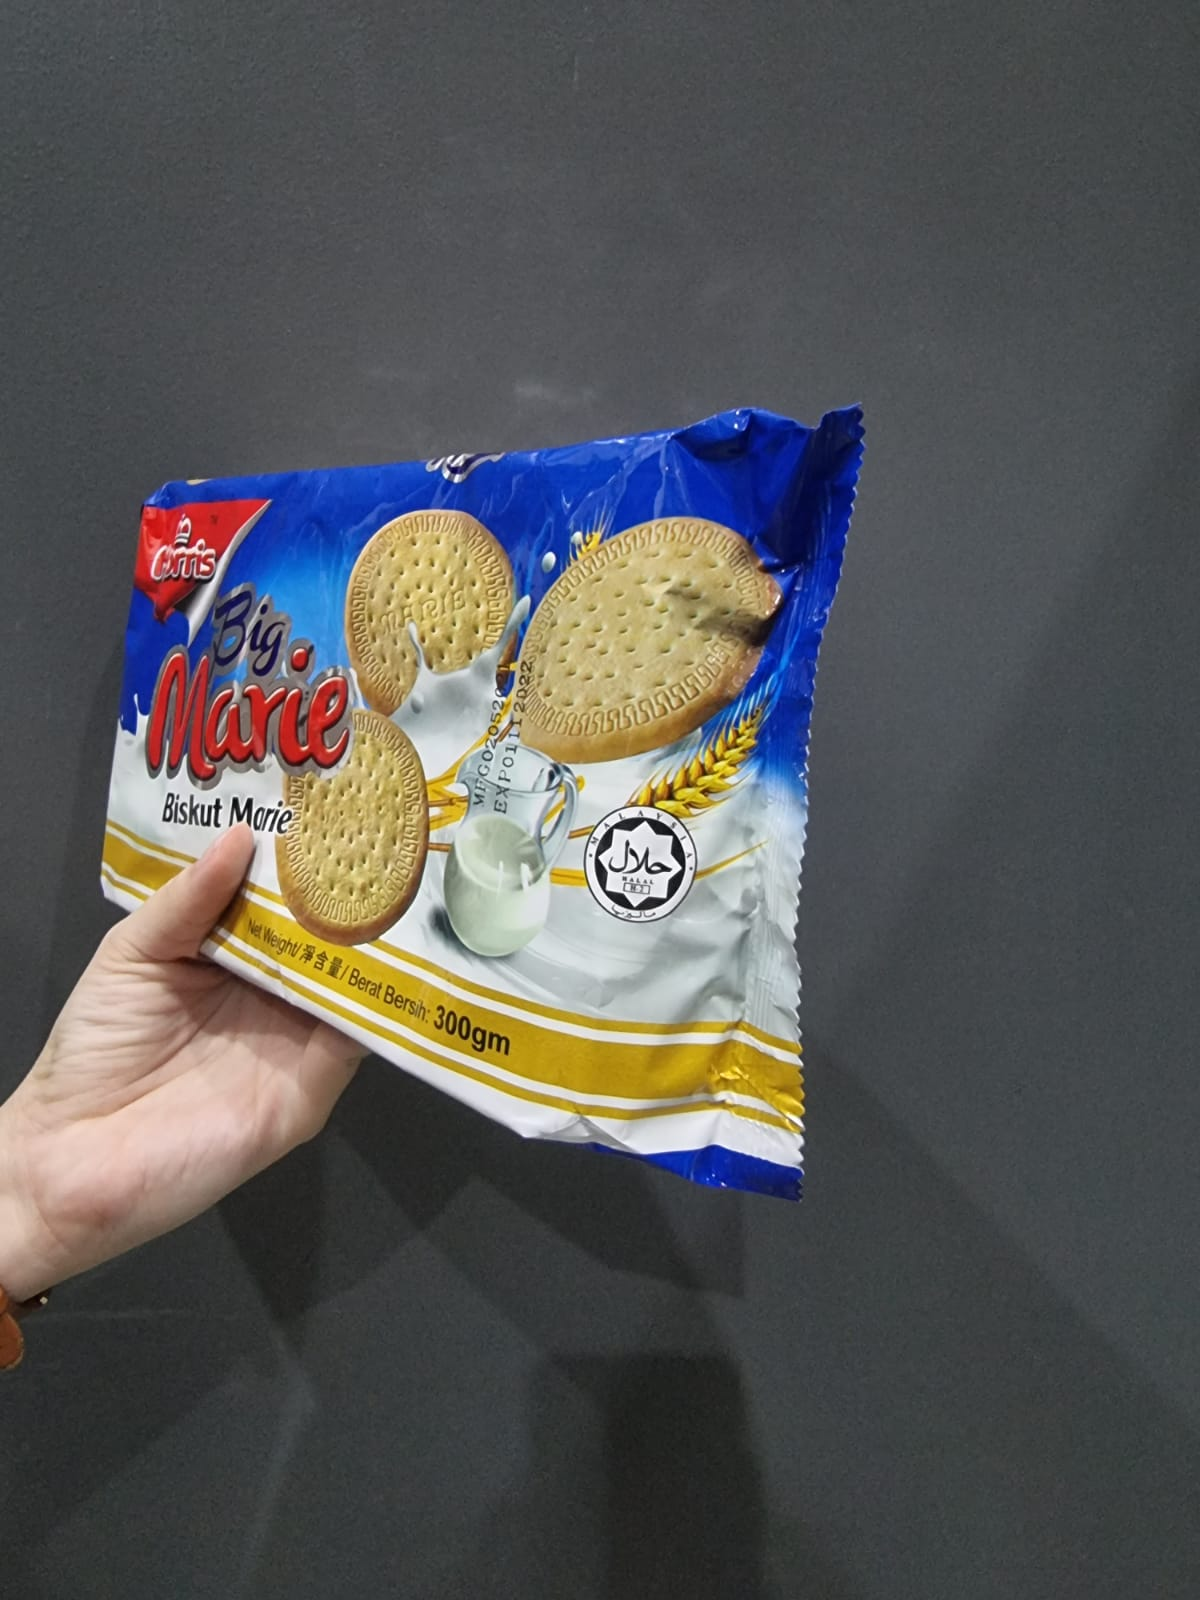Halal: (587, 808, 691, 920)
